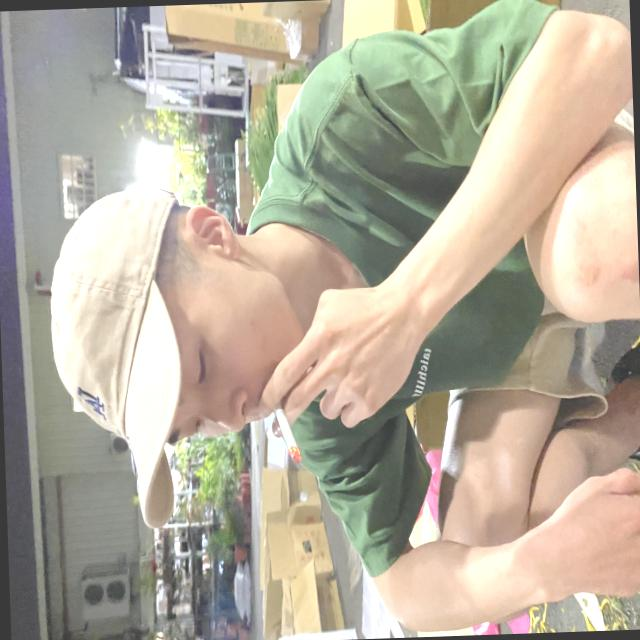cigarette: (265, 373, 308, 480)
